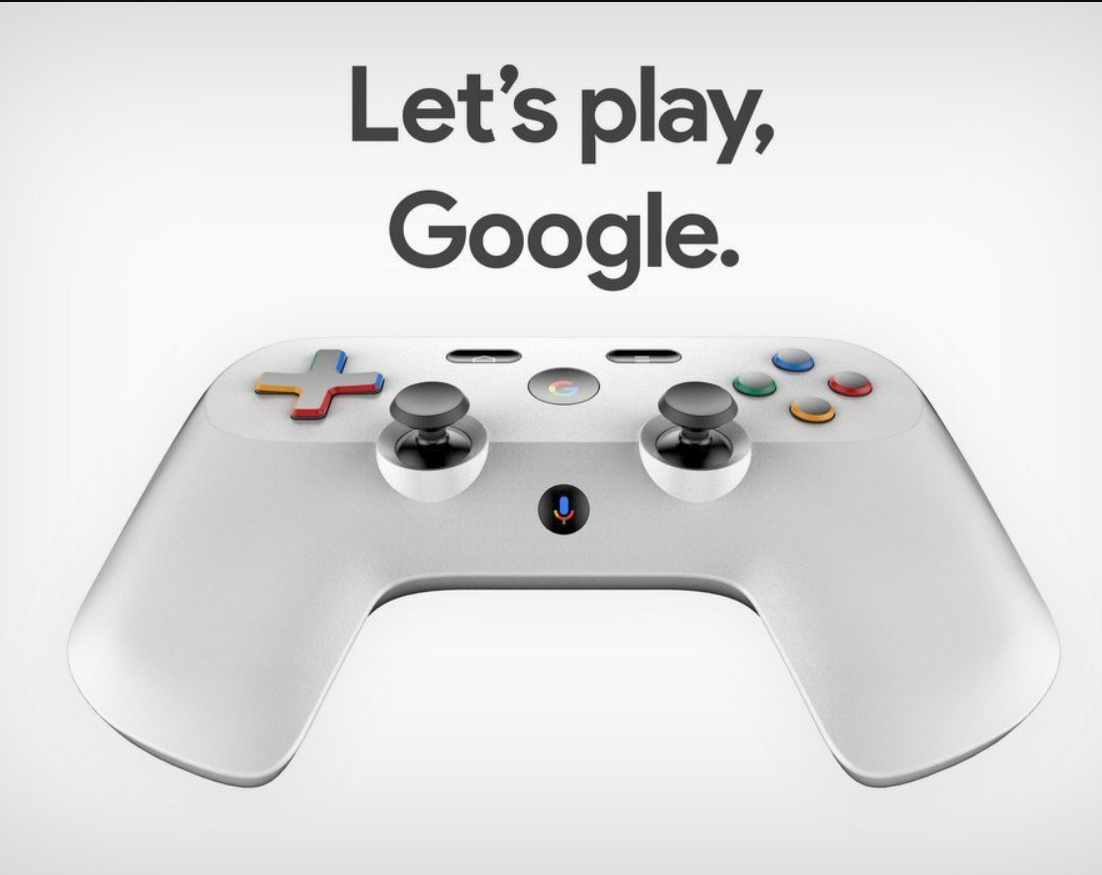gamingconsole: (58, 337, 1055, 789)
